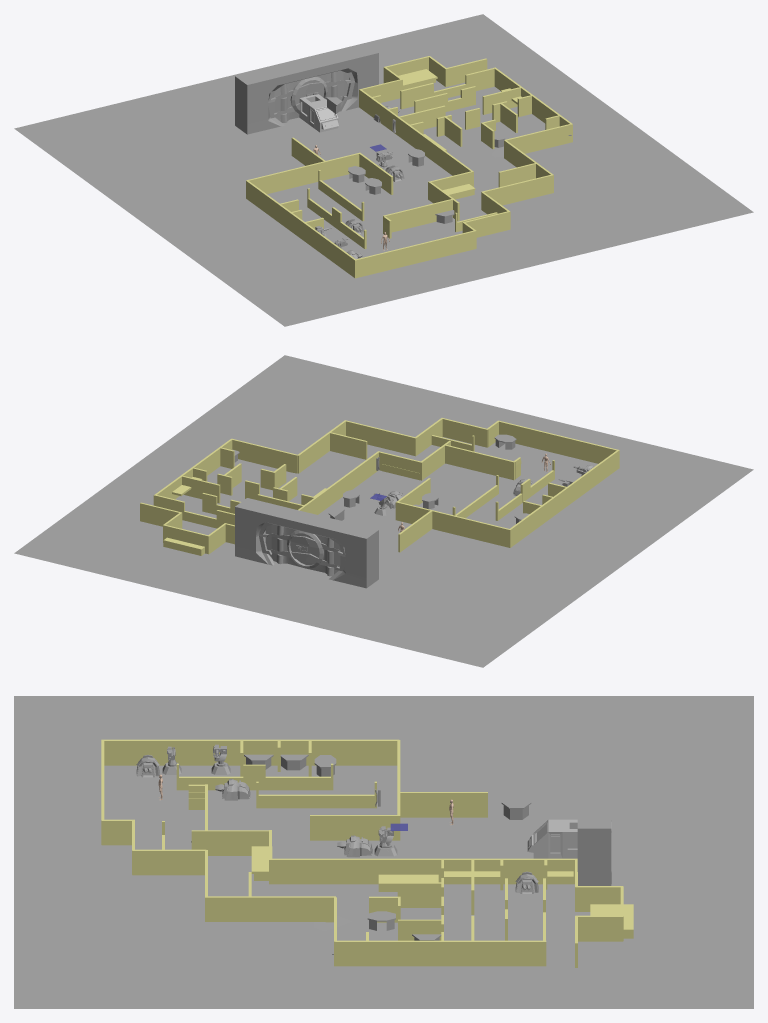
3 views of the same model, one above another, from view 1: azimuth 30°, elevation 25°; view 2: azimuth 150°, elevation 25°; view 3: azimuth 270°, elevation 25° (orthographic). The views are drawn at different scales.
Visible parts, largest first — view 1: Ground, Exit_ram, pasted__pCube104, pasted__pCube66, pasted__pCube75, pasted__pCube64, pasted__pCube93, pasted__pCube97, pasted__pCube23, Exit_prave_dvere, Computer_base_01, Exit_lave_dvere (+10 smaller); view 2: Ground, Exit_ram, pasted__pCube66, pasted__pCube104, pasted__pCube64, Exit_lave_dvere, pasted__pCube75, pasted__pCube97, pasted__pCube93, pasted__pCube23, Exit_prave_dvere, pasted__pCube24 (+8 smaller); view 3: Ground, pasted__pCube75, pasted__pCube66, pasted__pCube24, Exit_ram, pasted__pCube5, pasted__pCube55, pasted__pCube2, pasted__pCube43, Computer_base_01, pasted__pCube16, pasted__pCube29 (+13 smaller).
Part boxes in pixels (box(x1,y1,x2,y2)): Ground: box(14, 14, 753, 326); Exit_ram: box(235, 44, 378, 134); pasted__pCube104: box(354, 230, 475, 278); pasted__pCube66: box(246, 180, 355, 277); pasted__pCube75: box(359, 89, 473, 186); pasted__pCube64: box(246, 153, 359, 194); pasted__pCube93: box(481, 174, 552, 205); pasted__pCube97: box(383, 199, 452, 233); pasted__pCube23: box(505, 124, 572, 153); Exit_prave_dvere: box(271, 78, 310, 122); Computer_base_01: box(299, 94, 338, 132); Exit_lave_dvere: box(304, 70, 348, 107); Ground: box(14, 355, 753, 667); Exit_ram: box(235, 498, 378, 588); pasted__pCube66: box(509, 450, 618, 547); pasted__pCube104: box(499, 421, 619, 468); pasted__pCube64: box(396, 502, 510, 547); Exit_lave_dvere: box(265, 524, 310, 568); pasted__pCube75: box(298, 451, 378, 514); pasted__pCube97: box(445, 445, 514, 480); pasted__pCube93: box(346, 420, 416, 456); pasted__pCube23: box(231, 438, 297, 473); Exit_prave_dvere: box(304, 532, 342, 576); pasted__pCube24: box(153, 439, 232, 505); Ground: box(14, 696, 753, 1008); pasted__pCube75: box(269, 858, 577, 884); pasted__pCube66: box(103, 739, 399, 765); pasted__pCube24: box(335, 940, 546, 966); Exit_ram: box(577, 741, 611, 885); pasted__pCube5: box(205, 896, 335, 922); pasted__pCube55: box(398, 792, 487, 817); pasted__pCube2: box(310, 815, 400, 840); pasted__pCube43: box(132, 849, 206, 875); Computer_base_01: box(527, 819, 577, 858); pasted__pCube16: box(191, 830, 268, 855); pasted__pCube29: box(575, 915, 623, 941).
Size of the model in its own units: 5000 by 521 by 5000.
